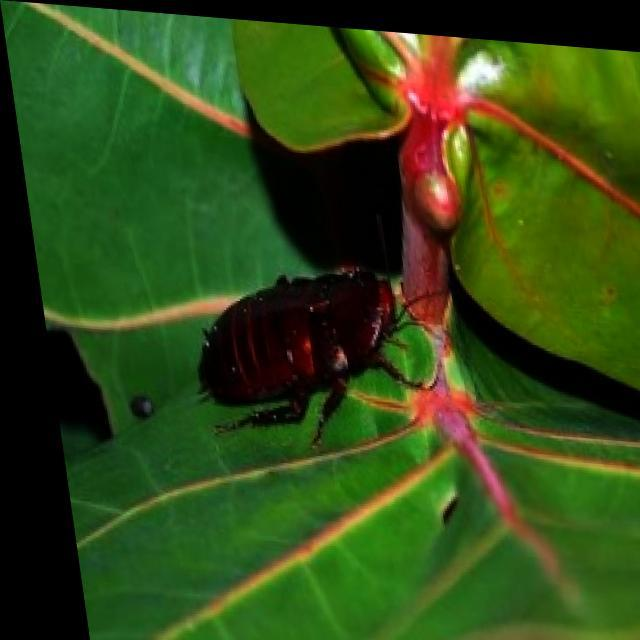cockroach: (192, 260, 432, 452)
